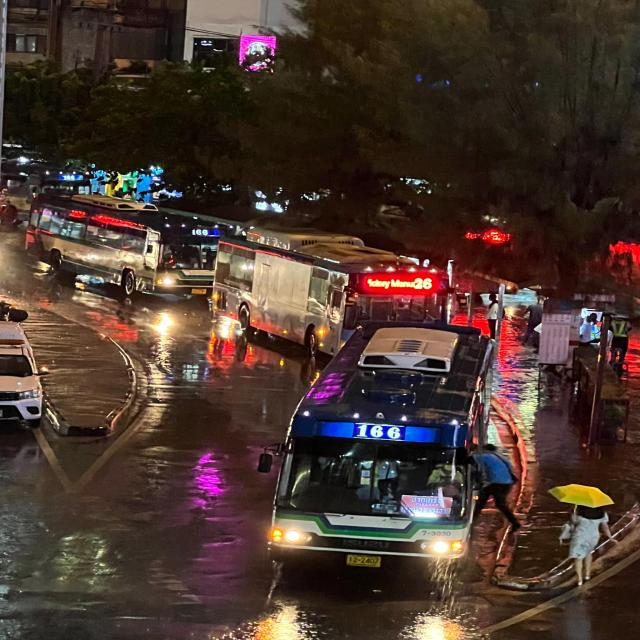BMTA-bus: (265, 318, 503, 578), (212, 224, 454, 358), (22, 188, 226, 302)
Bus-Line-Number: (354, 425, 404, 439)
Destination-Sign-Extra-Bus: (400, 496, 453, 520)
